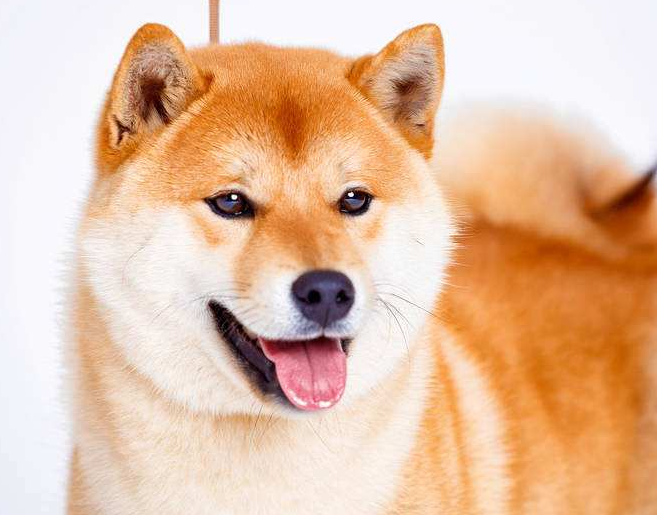nose: (288, 262, 360, 326)
